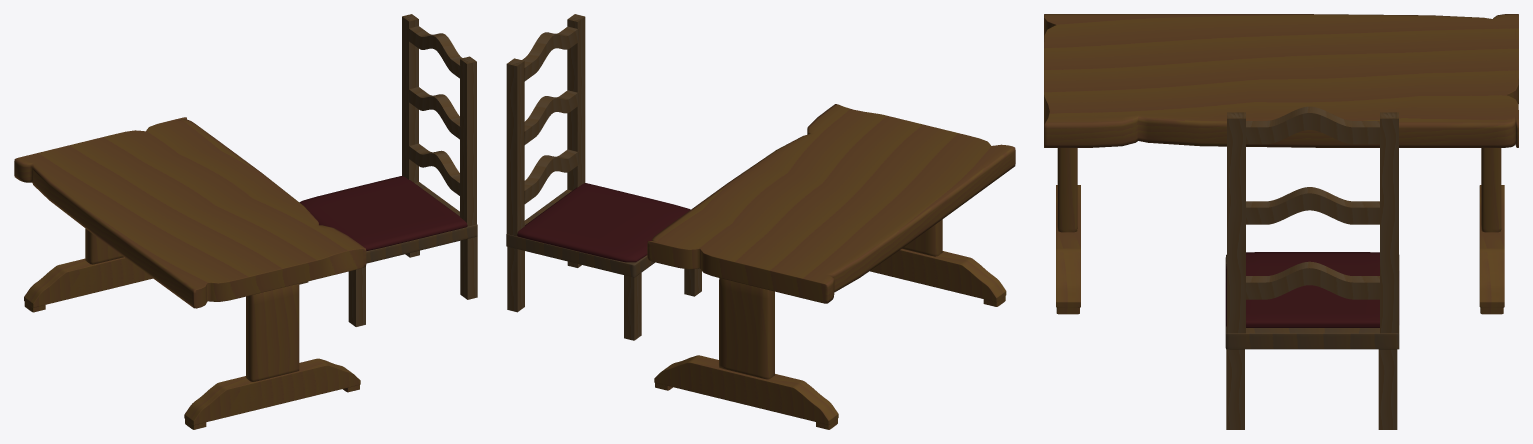
The picture shows the model from 3 angles, left to right: view 1: azimuth 30°, elevation 25°; view 2: azimuth 150°, elevation 25°; view 3: azimuth 270°, elevation 25°; orthographic projection. The views are drawn at different scales.
Visible parts, largest first — view 1: Cube, Cube.006, Cube.002, Cube.001, Cube.004, Cube.008, Cube.007, Cube.005, Cube.011, Cube.009, Cube.010, Cube.015 (+2 smaller); view 2: Cube, Cube.006, Cube.004, Cube.003, Cube.002, Cube.007, Cube.008, Cube.005, Cube.011, Cube.009, Cube.010, Cube.014 (+2 smaller); view 3: Cube, Cube.006, Cube.007, Cube.008, Cube.005, Cube.009, Cube.011, Cube.010, Cube.004, Cube.002, Cube.003, Cube.001 (+2 smaller).
Part boxes in pixels (<box>): Cube: <box>14,117,366,308</box>; Cube.006: <box>299,176,467,250</box>; Cube.002: <box>184,358,360,429</box>; Cube.001: <box>246,283,299,381</box>; Cube.004: <box>24,257,152,312</box>; Cube.008: <box>460,56,476,226</box>; Cube.007: <box>402,14,418,182</box>; Cube.005: <box>366,182,477,263</box>; Cube.011: <box>409,26,462,78</box>; Cube.009: <box>409,143,460,195</box>; Cube.010: <box>409,87,460,139</box>; Cube.015: <box>460,236,477,299</box>; Cube: <box>647,104,1015,303</box>; Cube.006: <box>517,183,690,262</box>; Cube.004: <box>654,355,838,429</box>; Cube.003: <box>719,278,774,379</box>; Cube.002: <box>870,249,1006,306</box>; Cube.007: <box>506,58,524,236</box>; Cube.008: <box>567,14,585,190</box>; Cube.005: <box>506,189,654,277</box>; Cube.011: <box>522,26,578,81</box>; Cube.009: <box>524,149,578,203</box>; Cube.010: <box>524,90,578,144</box>; Cube.014: <box>624,273,641,340</box>; Cube: <box>1044,14,1518,147</box>; Cube.006: <box>1225,252,1399,327</box>; Cube.007: <box>1380,112,1398,333</box>; Cube.008: <box>1227,112,1245,333</box>; Cube.005: <box>1225,254,1399,349</box>; Cube.009: <box>1246,261,1379,299</box>; Cube.011: <box>1246,106,1379,144</box>; Cube.010: <box>1246,187,1379,224</box>; Cube.004: <box>1479,185,1504,314</box>; Cube.002: <box>1056,185,1080,314</box>; Cube.003: <box>1481,148,1501,232</box>; Cube.001: <box>1057,148,1077,232</box>.
Bounding box in the file's own units: 150 × 98.17 × 133.
